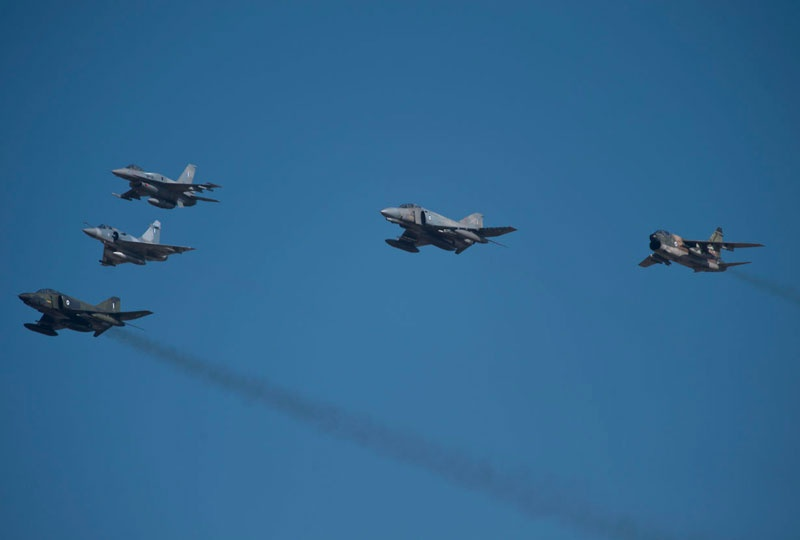airplane: (376, 199, 516, 263), (636, 226, 771, 281), (108, 160, 221, 214), (81, 217, 199, 264)
otherboat: (15, 282, 154, 343)
